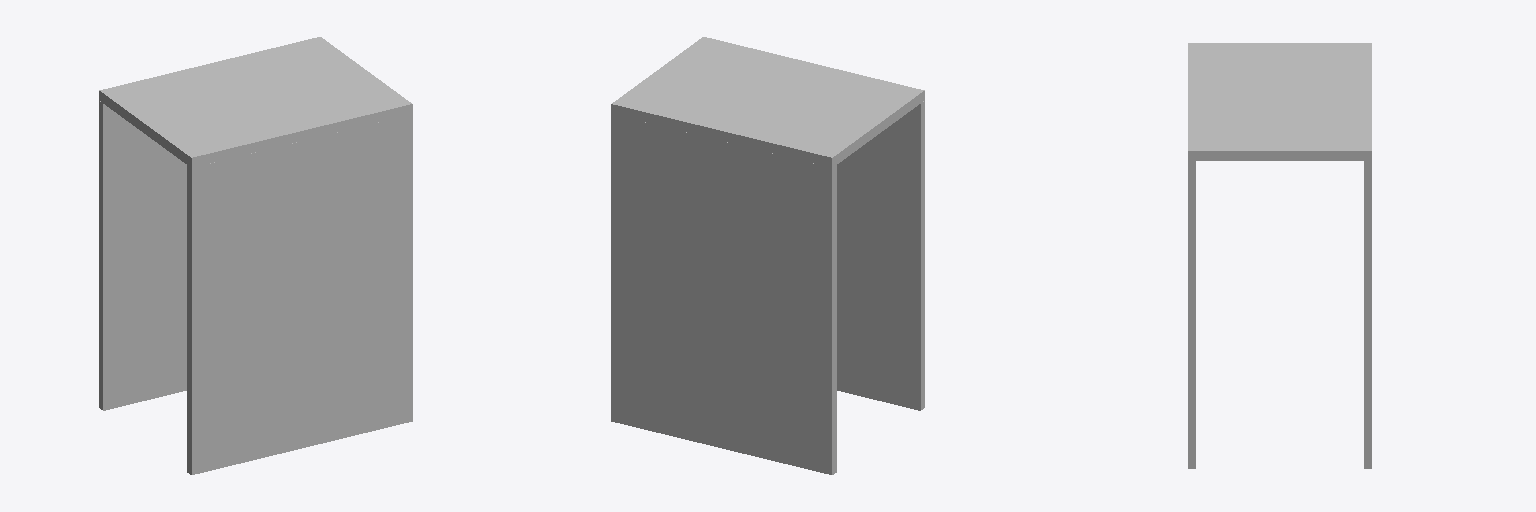
File: housesp_047.obj
The picture shows the model from 3 angles: view 1: azimuth 30°, elevation 25°; view 2: azimuth 150°, elevation 25°; view 3: azimuth 270°, elevation 25°; orthographic projection.
Bounding box in the file's own units: 45.39 × 62.29 × 32.76.